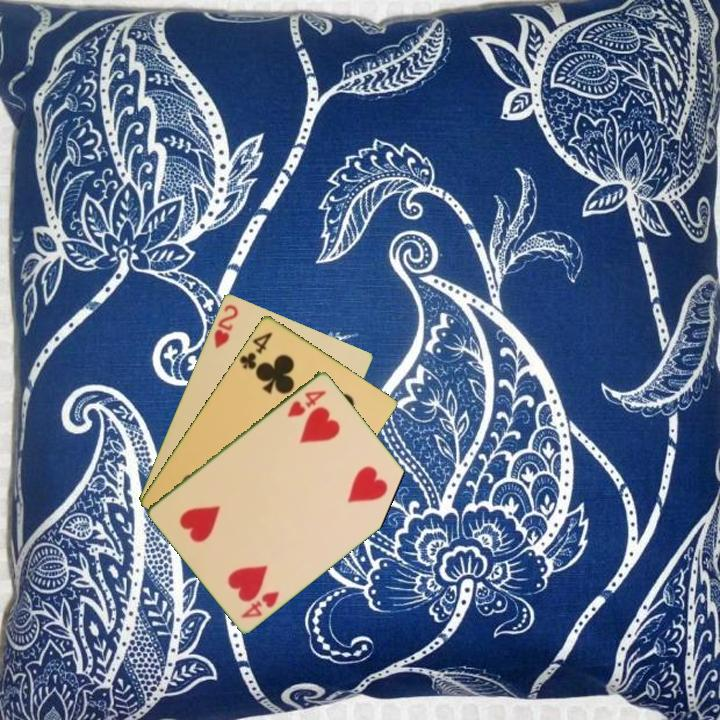2h: (210, 300, 241, 351)
4c: (236, 328, 275, 372)
4h: (283, 386, 329, 420), (237, 587, 282, 621)
